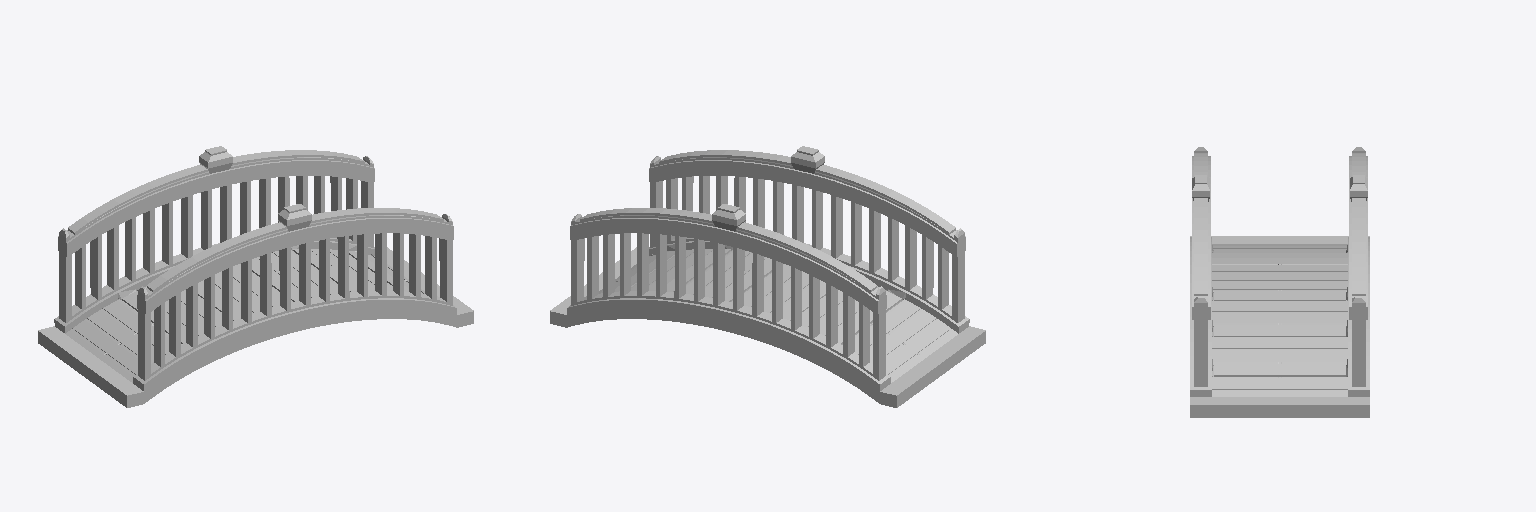
Rendered from Bridge.obj.
3 views of the same model, side by side, from view 1: azimuth 30°, elevation 25°; view 2: azimuth 150°, elevation 25°; view 3: azimuth 270°, elevation 25° (orthographic).
Parts seen in each view (by area): view 1: Cube.001; view 2: Cube.001; view 3: Cube.001.
Boxes of the visible parts, x1=… form: Cube.001: x1=38, y1=146, x2=473, y2=407; Cube.001: x1=550, y1=146, x2=985, y2=407; Cube.001: x1=1190, y1=147, x2=1369, y2=417.
Bounding box in the file's own units: 9.06 × 3.85 × 4.05.